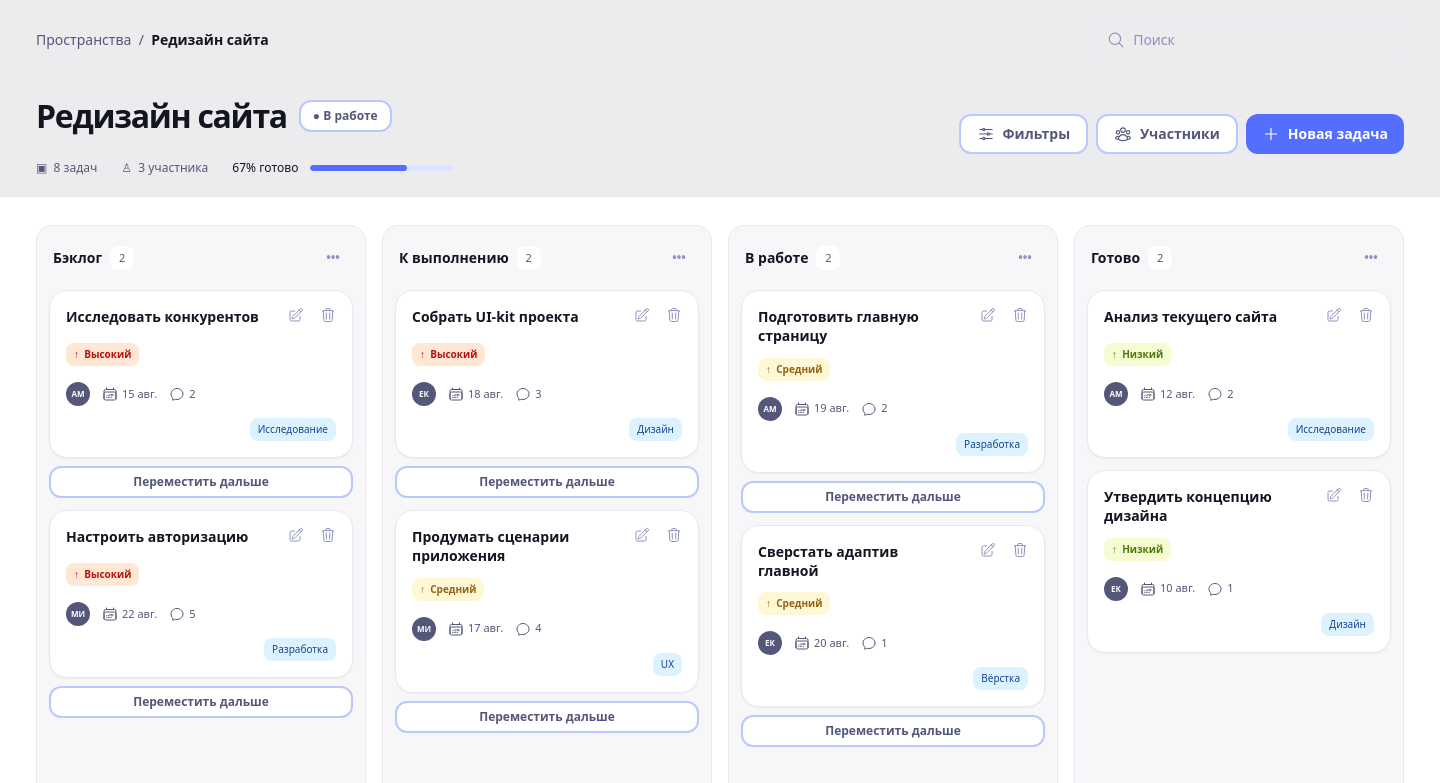
Test: KanbanBoard › отправляет изменения задачи и закрывает диалог
The image size is (1440, 783).
Click the button named "Редактировать задачу Исследовать конкурентов" at (296, 315), box [280, 299, 312, 331]
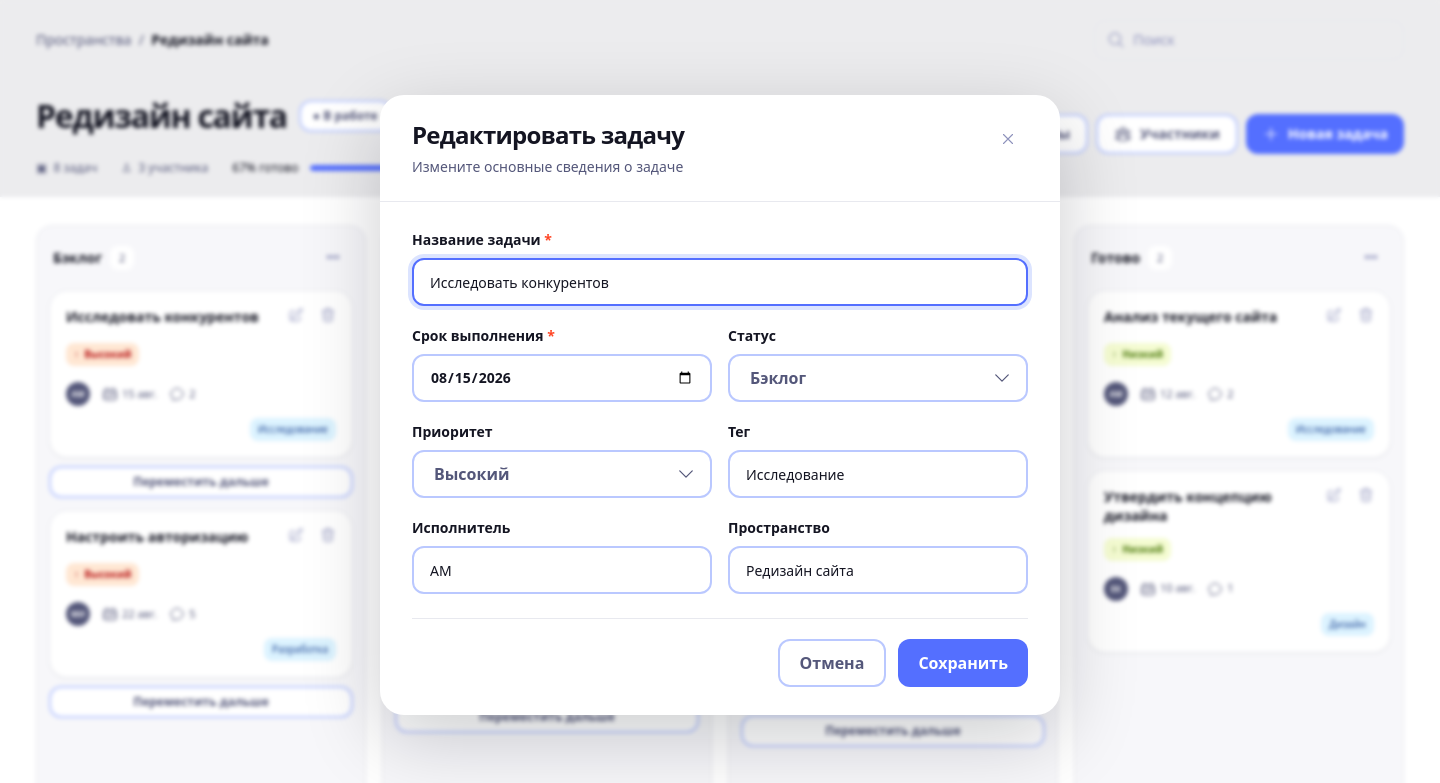
Check: the field labelled "Название задачи *" holds "Исследовать конкурентов"
Replace the text in the field labelled "Название задачи *" with "Подготовить документацию" at (720, 282), box [412, 258, 1028, 306]
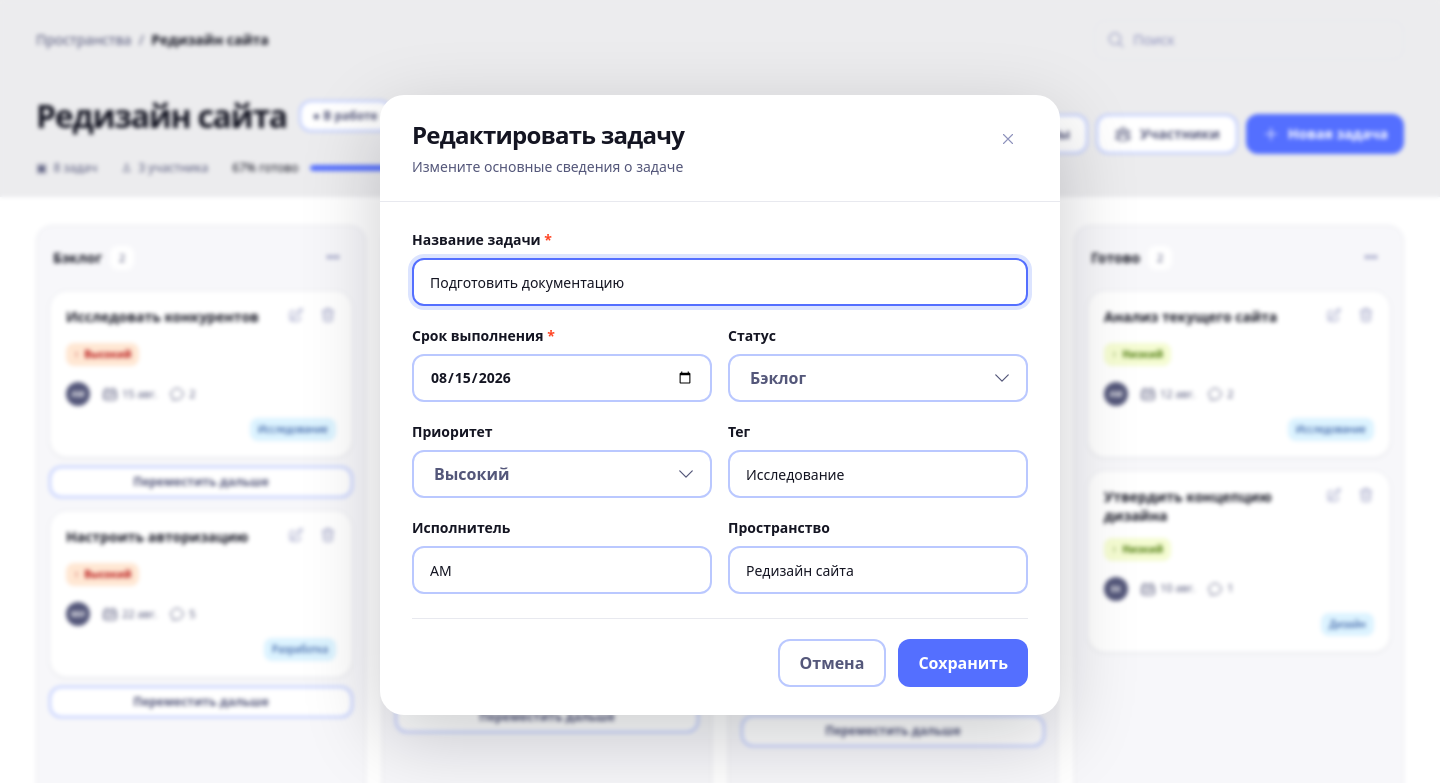
Click the button "Сохранить" at (963, 663), box [898, 639, 1028, 687]
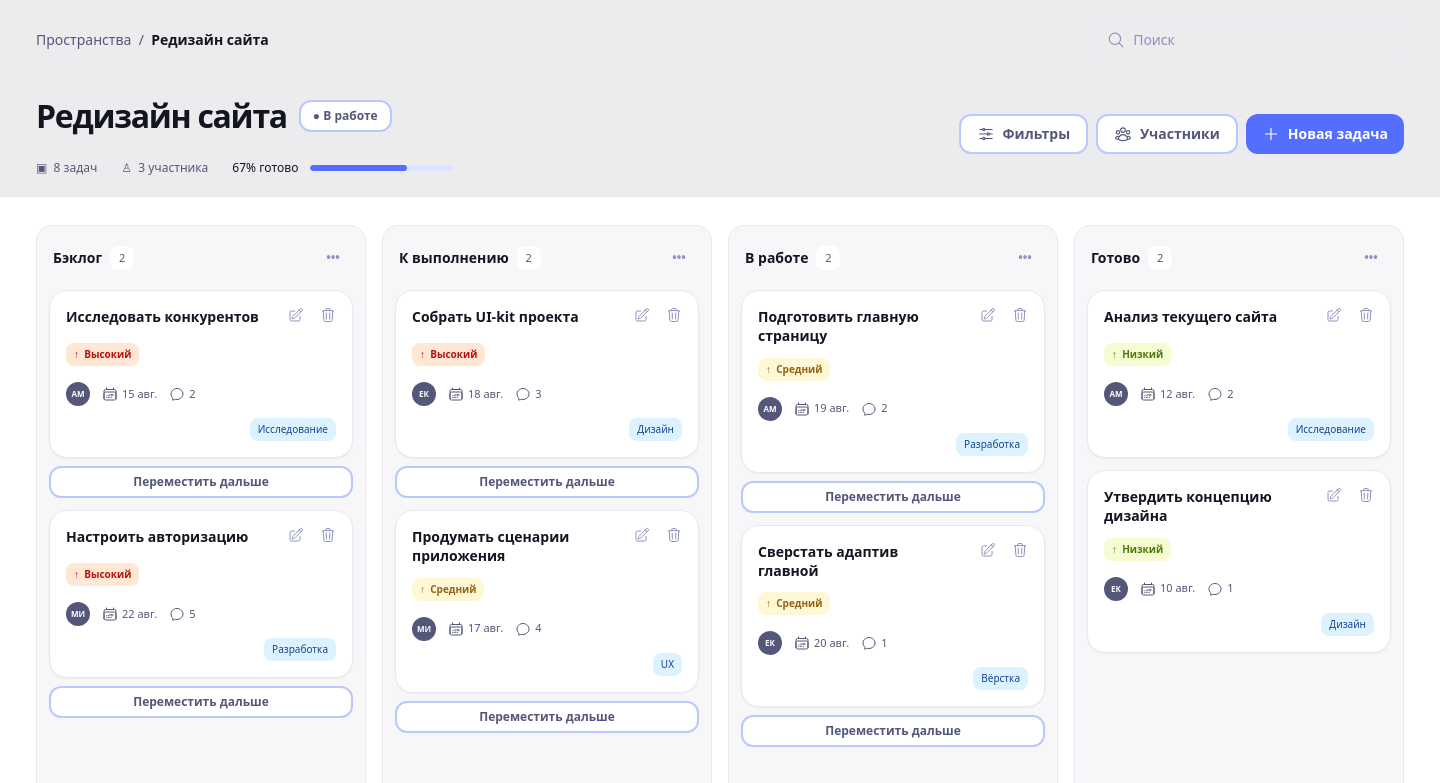
Check: the dialog is gone
